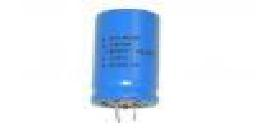Electrolytic-capacitor: (89, 8, 165, 120)
